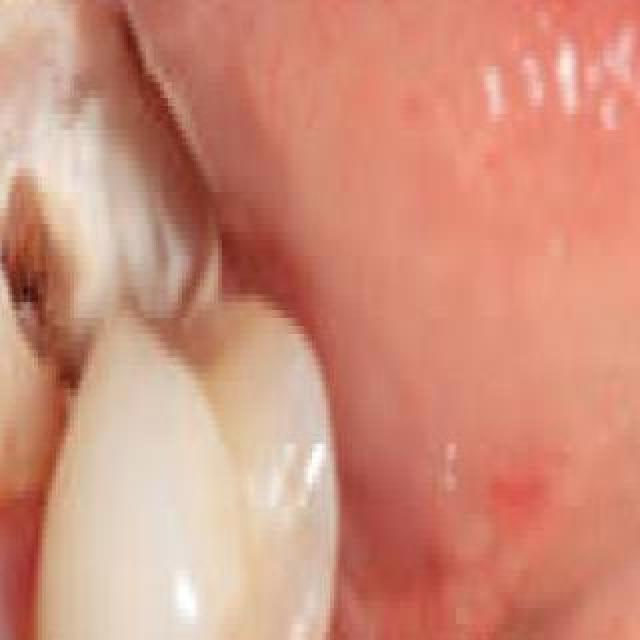cavities: (0, 0, 262, 530)
